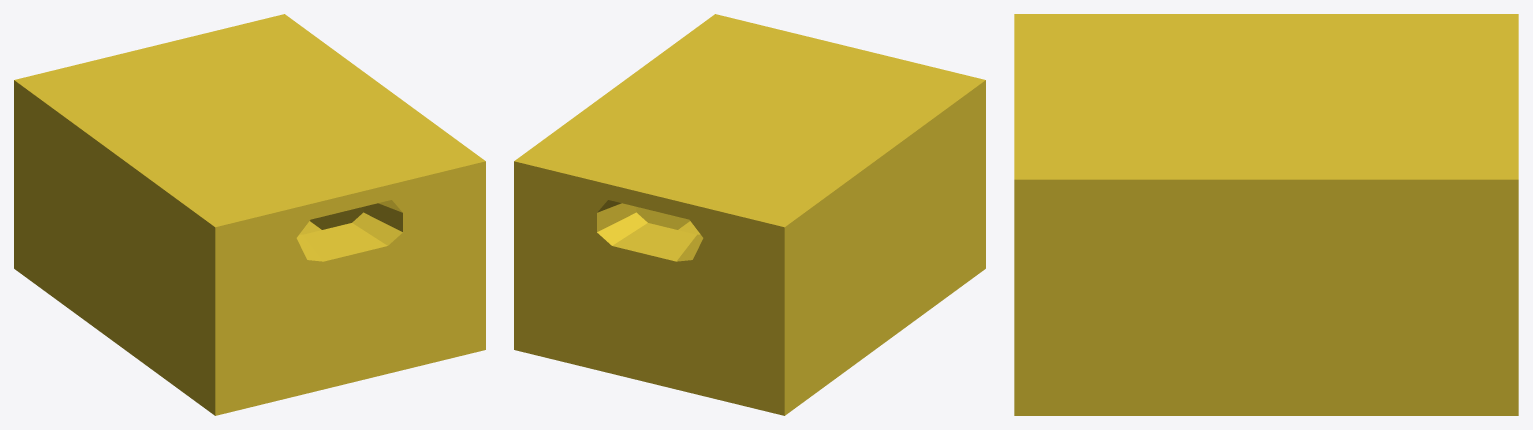
Rendered from Caja para vender (3).fbx.
3 renders of one model, left to right at view 1: azimuth 30°, elevation 25°; view 2: azimuth 150°, elevation 25°; view 3: azimuth 270°, elevation 25°, orthographic. The views are drawn at different scales.
Parts seen in each view (by area): view 1: Cube; view 2: Cube; view 3: Cube.
Boxes of the visible parts, <box> form: Cube: <box>14,14,485,415</box>; Cube: <box>514,14,985,415</box>; Cube: <box>1014,14,1518,415</box>.
Size of the model in its own units: 200 by 133 by 258.
